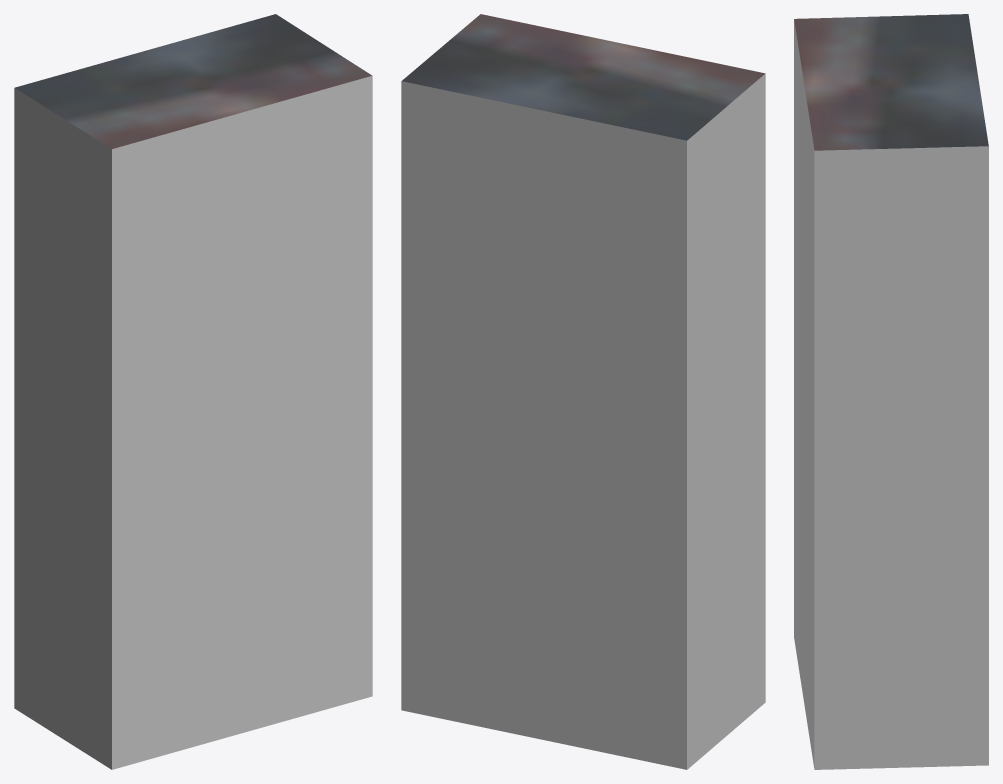
The model's file is DEBW_0010007THYm.gltf.
The picture shows the model from 3 angles, left to right: view 1: azimuth 30°, elevation 25°; view 2: azimuth 150°, elevation 25°; view 3: azimuth 270°, elevation 25°; orthographic projection.
Visible parts, largest first — view 1: Z_UP; view 2: Z_UP; view 3: Z_UP.
Boxes of the visible parts, x1=… form: Z_UP: x1=14, y1=14, x2=372, y2=769; Z_UP: x1=401, y1=14, x2=765, y2=769; Z_UP: x1=794, y1=14, x2=988, y2=769.
Size of the model in its own units: 3.34 by 7.05 by 2.01.
Materials: 2 (1 with a texture image).
